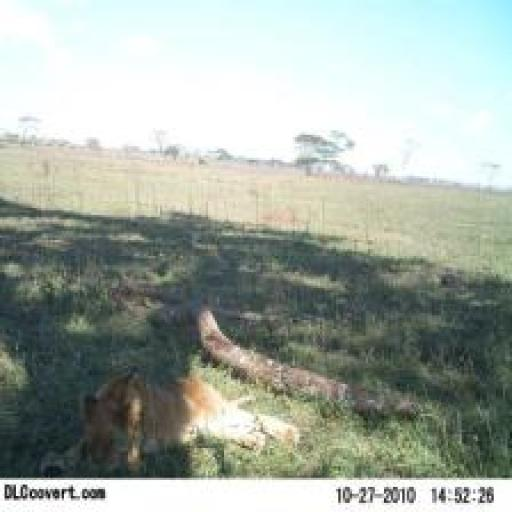lion: (23, 364, 328, 476)
